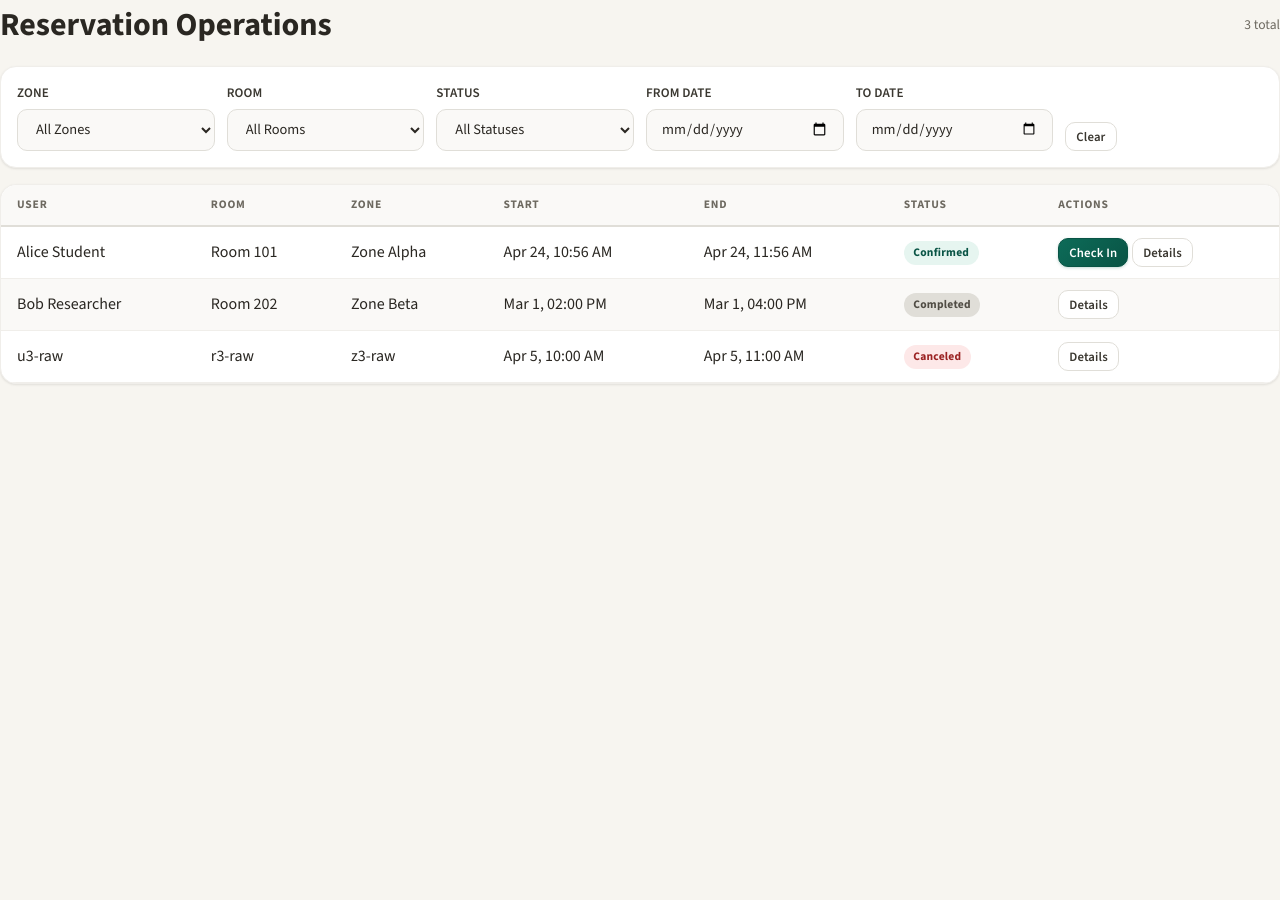
Scenario: ReservationOpsPage › Detail / Cancel modal › opens detail modal when Details is clicked
Expected: the text "Alice Student" is shown, [1, 226, 195, 278]
Step 1. Click the button "Details" in the row of "Alice Student" → [1162, 252], box [1132, 238, 1193, 267]
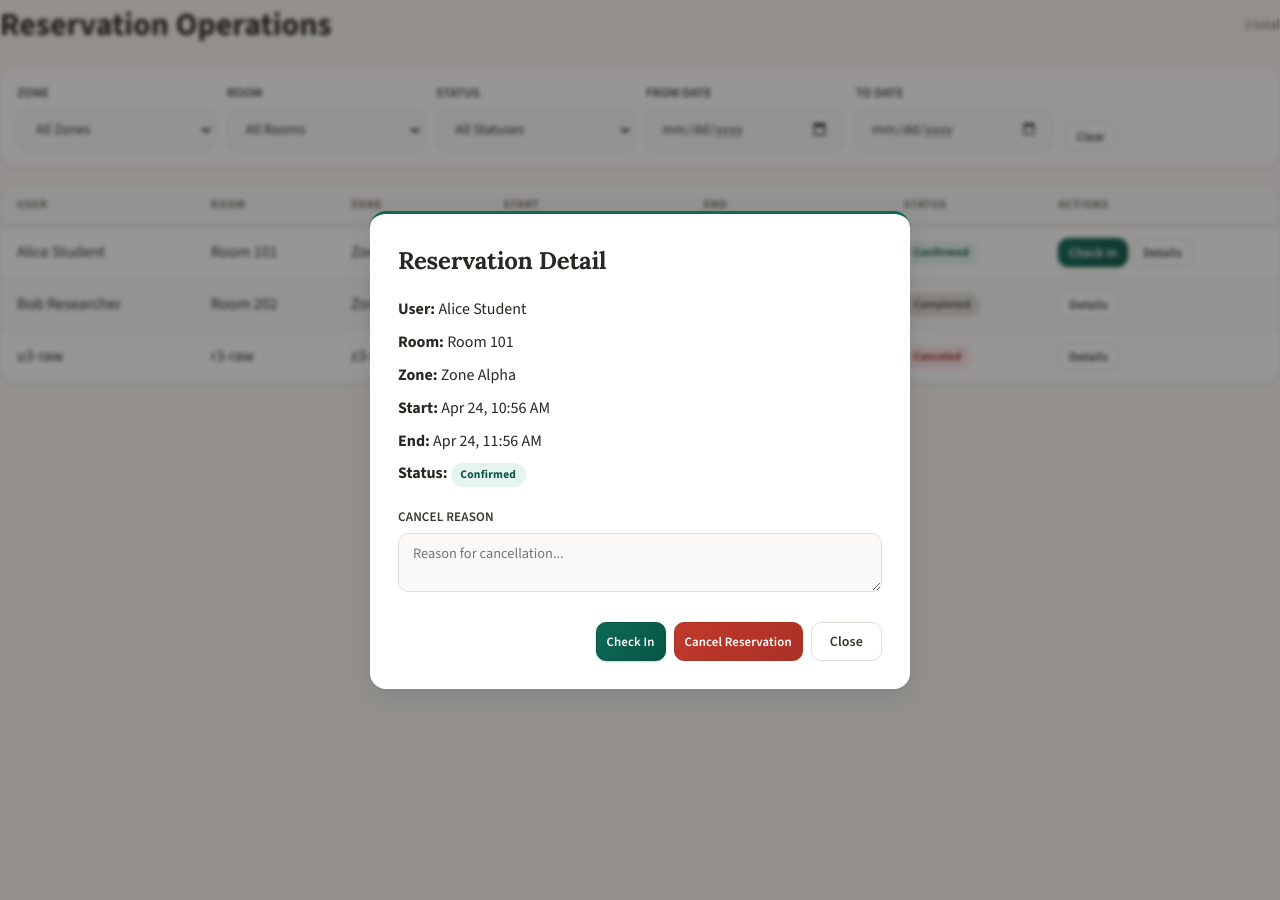
Expected: the heading "Reservation Detail" is shown, [398, 245, 606, 276]
